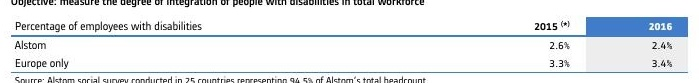table: (0, 0, 699, 83)
